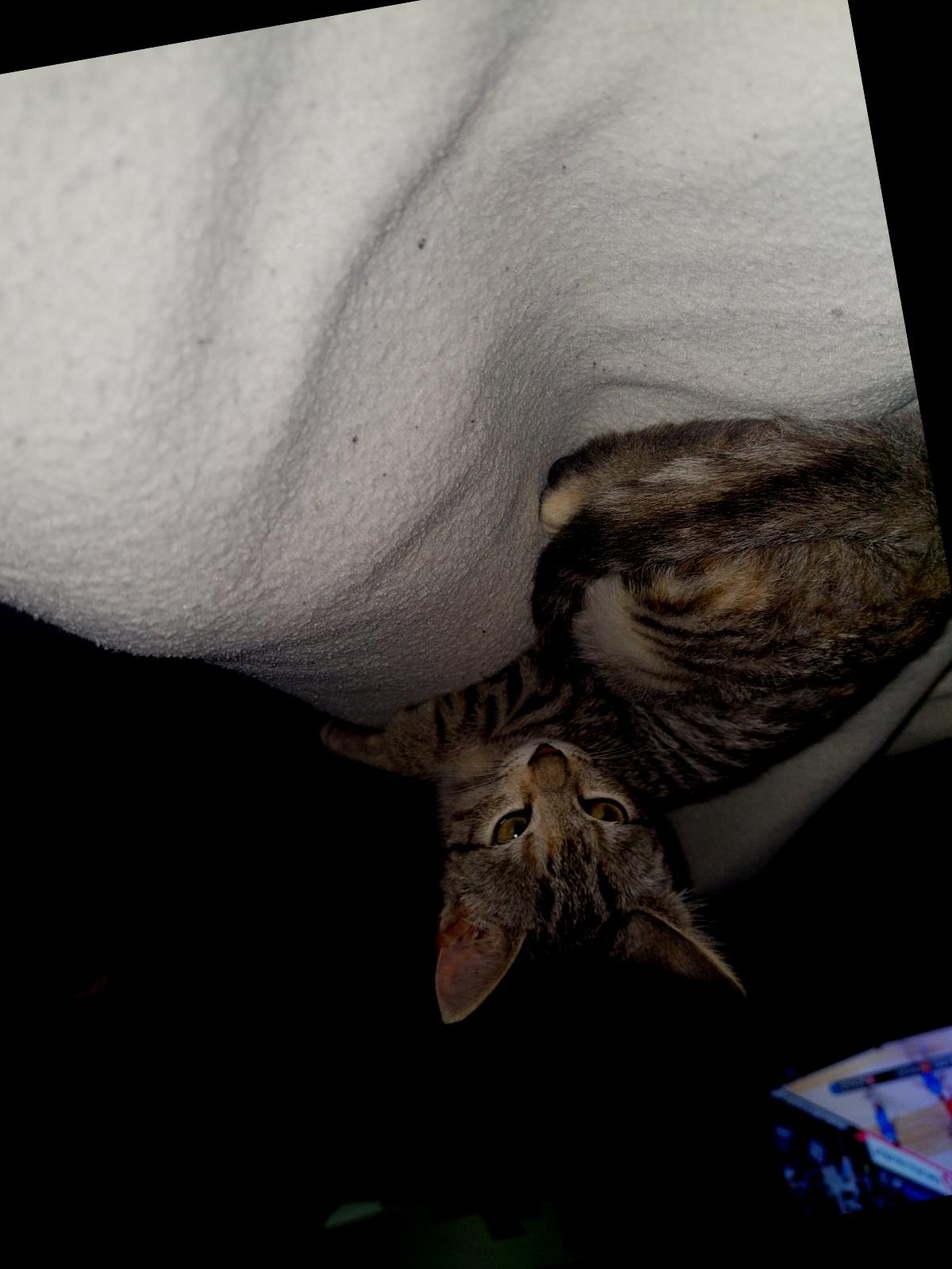macka: (270, 374, 952, 1064)
